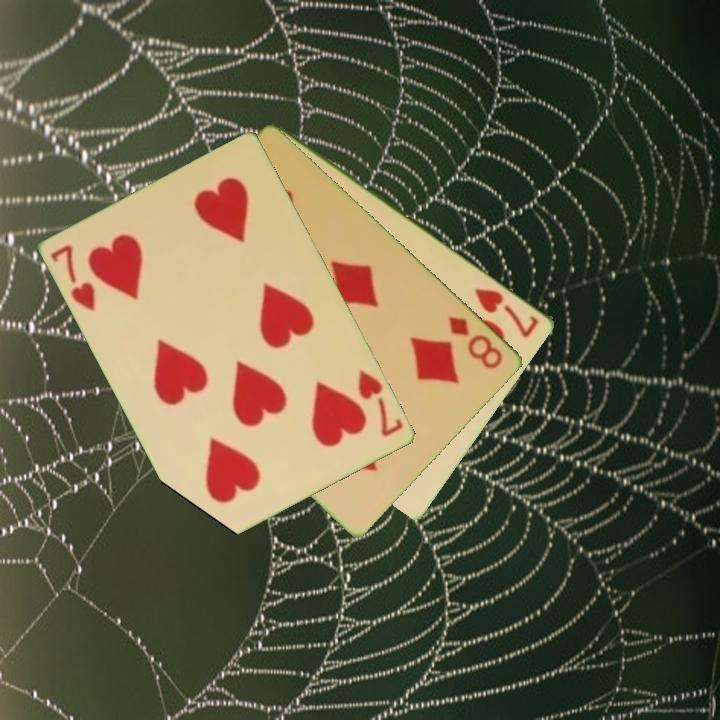7h: (471, 284, 543, 341), (355, 366, 407, 440), (47, 241, 99, 315)
8d: (445, 312, 506, 372)
